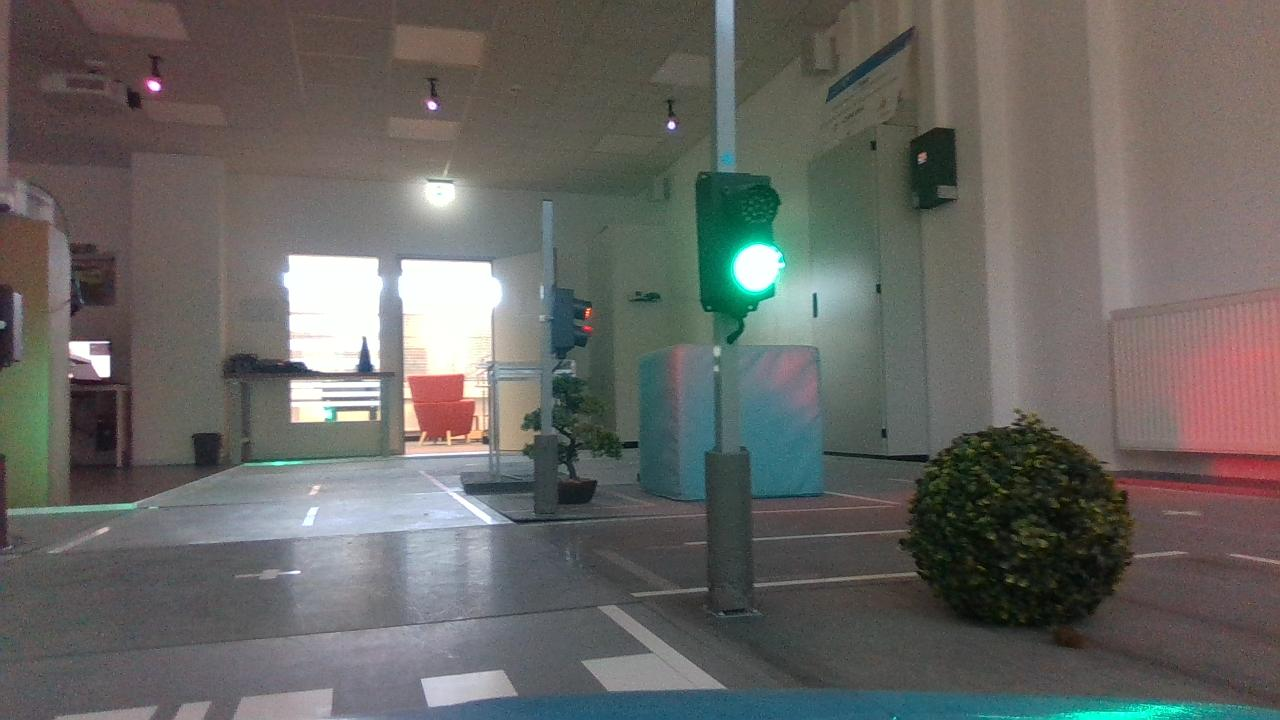traffic_light_green: (667, 162, 806, 320)
